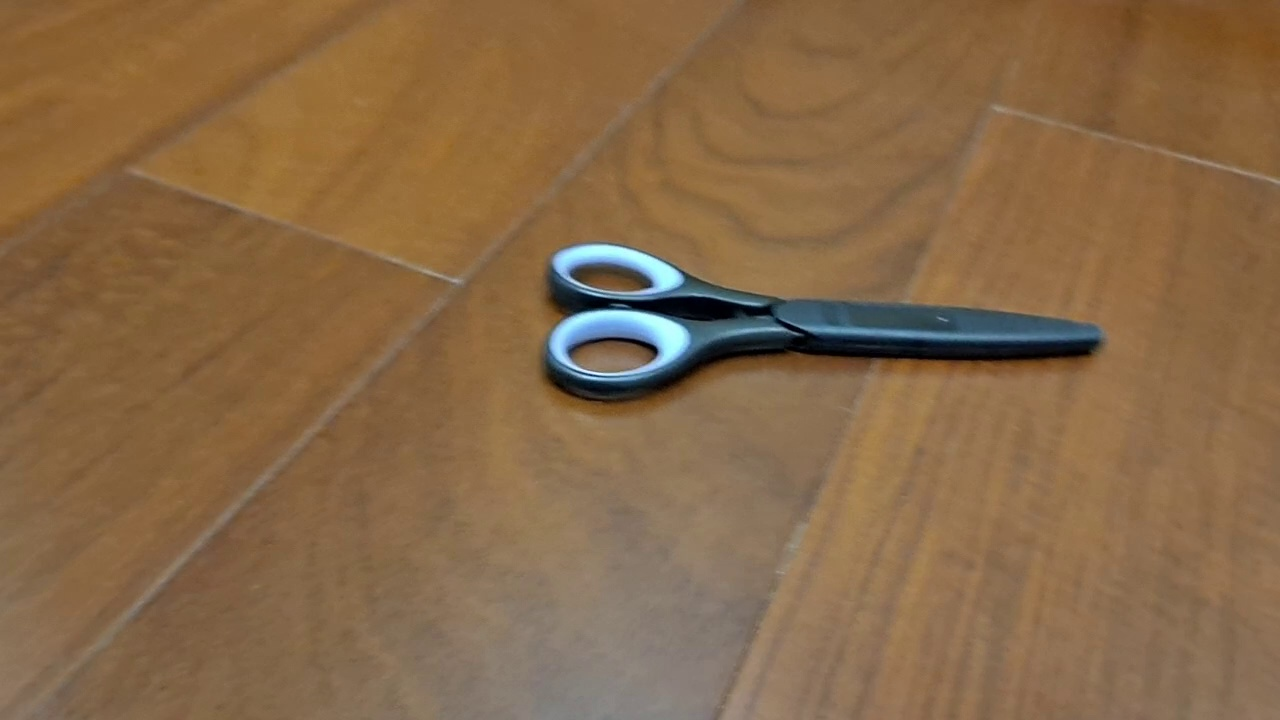scissors: (541, 240, 1107, 403)
